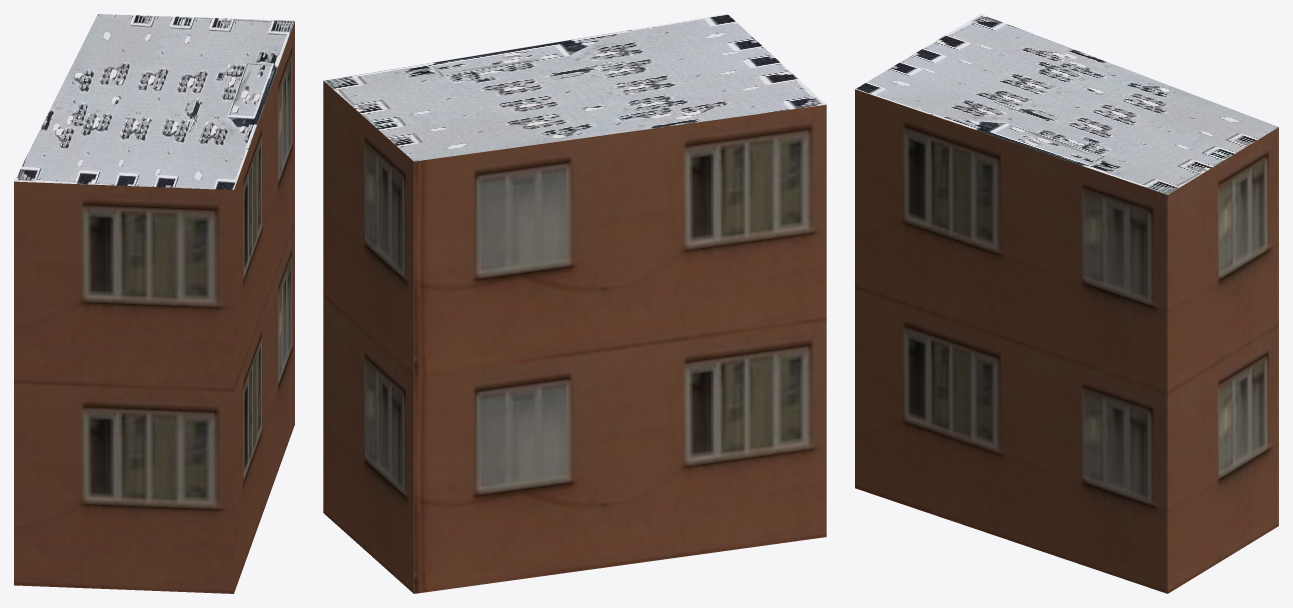
File: ResTex__5006.fbx
The picture shows the model from 3 angles, left to right: view 1: azimuth 30°, elevation 25°; view 2: azimuth 150°, elevation 25°; view 3: azimuth 270°, elevation 25°; orthographic projection. The views are drawn at different scales.
Visible parts, largest first — view 1: CityEngineMaterial_20_m, CityEngineMaterial_4_m; view 2: CityEngineMaterial_20_m, CityEngineMaterial_4_m; view 3: CityEngineMaterial_20_m, CityEngineMaterial_4_m.
Part boxes in pixels (x1,y1,x2,y2): CityEngineMaterial_20_m: (14,21,294,593); CityEngineMaterial_4_m: (14,14,294,189); CityEngineMaterial_20_m: (323,81,826,593); CityEngineMaterial_4_m: (324,14,825,161); CityEngineMaterial_20_m: (855,89,1278,593); CityEngineMaterial_4_m: (855,14,1278,194).
Size of the model in its own units: 5.84 by 6 by 5.78.
2 materials, 2 textured.
